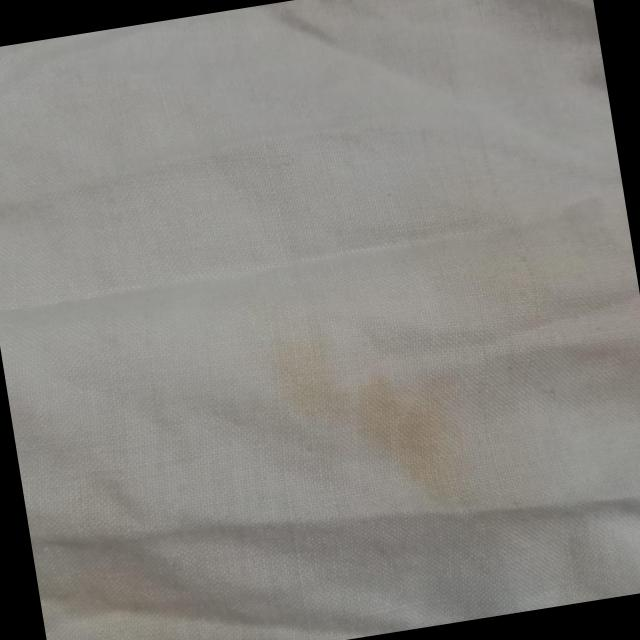stain: (254, 296, 503, 536), (480, 204, 640, 397)
